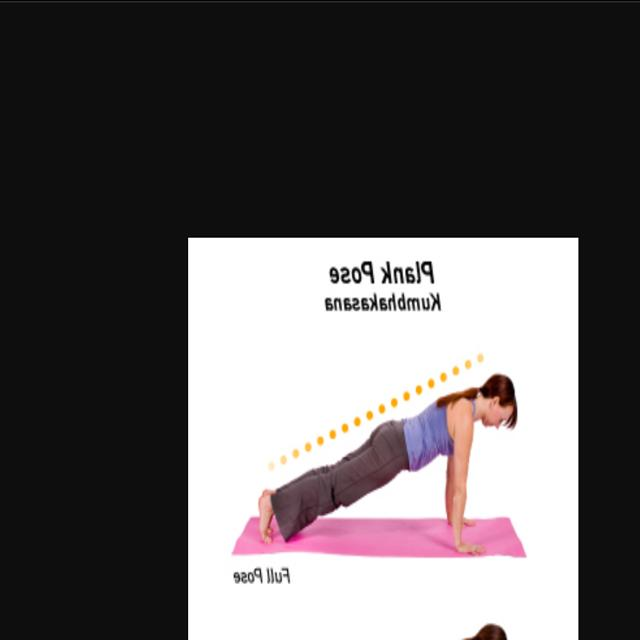Plank_Pose: (245, 373, 522, 558)
